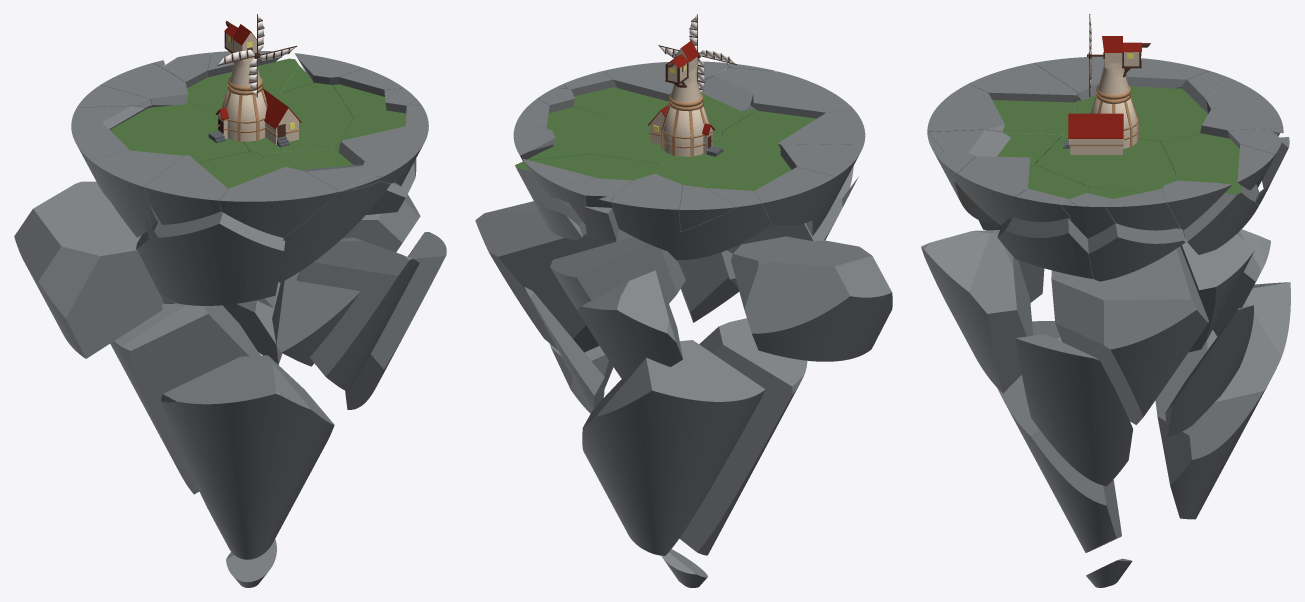
The picture shows the model from 3 angles, left to right: view 1: azimuth 30°, elevation 25°; view 2: azimuth 150°, elevation 25°; view 3: azimuth 270°, elevation 25°; orthographic projection.
Visible parts, largest first — view 1: floating_rocks, WindmillUpload, WindmillTop, WindmillWings; view 2: floating_rocks, WindmillUpload, WindmillTop, WindmillWings; view 3: floating_rocks, WindmillUpload, WindmillTop.
Part boxes in pixels (bbox=[...]): floating_rocks: bbox=[14, 50, 446, 587]; WindmillUpload: bbox=[208, 84, 301, 147]; WindmillTop: bbox=[224, 20, 262, 91]; WindmillWings: bbox=[217, 14, 297, 97]; floating_rocks: bbox=[475, 61, 892, 587]; WindmillUpload: bbox=[648, 100, 723, 156]; WindmillTop: bbox=[665, 40, 702, 107]; WindmillWings: bbox=[658, 14, 736, 92]; floating_rocks: bbox=[921, 56, 1290, 587]; WindmillUpload: bbox=[1063, 94, 1138, 154]; WindmillTop: bbox=[1096, 36, 1150, 99].
Size of the model in its own units: 23.62 by 33.73 by 19.73.
1 material, 1 textured.
